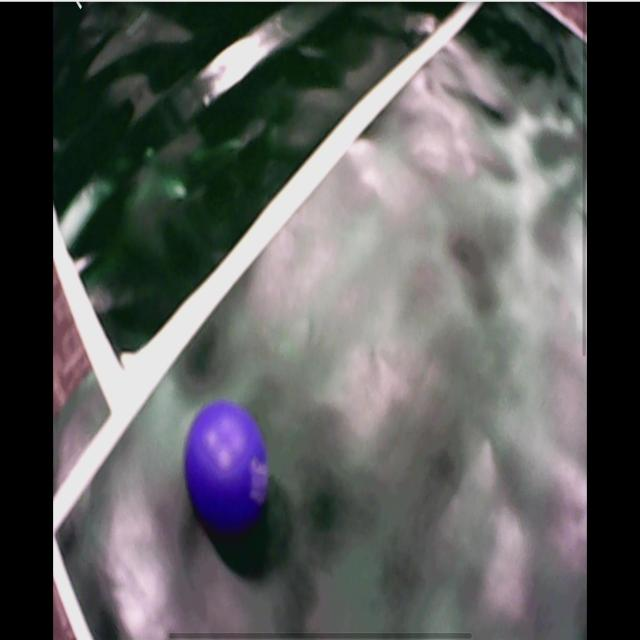ball: (185, 402, 270, 528)
